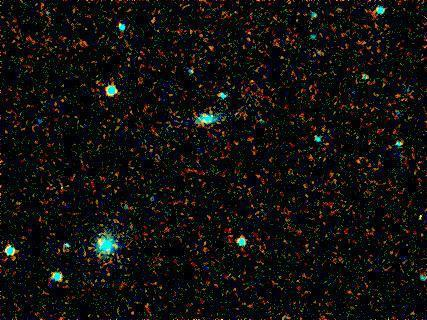star: (219, 101, 249, 131)
